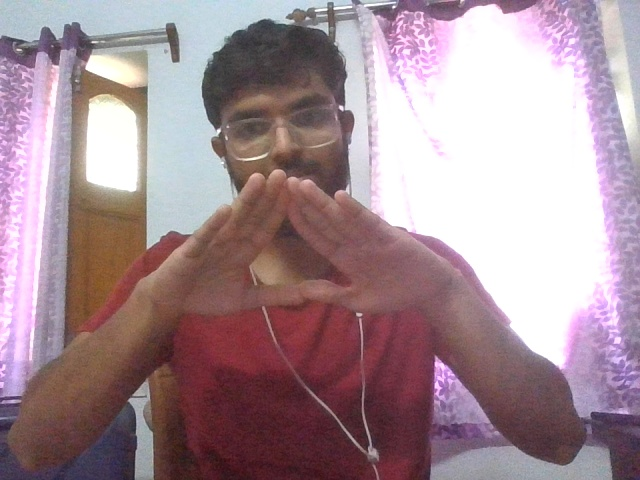ThankYou: (147, 170, 456, 316)
